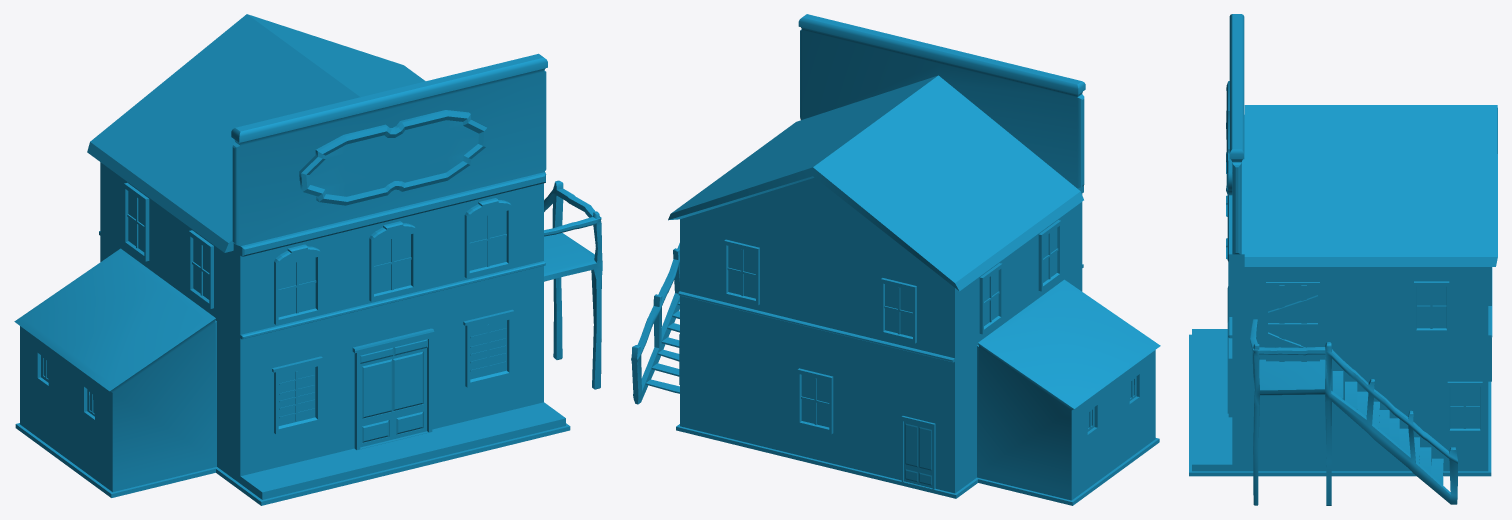
File: Funeral_Parlor_FINAL_FBX.FBX
3 views of the same model, side by side, from view 1: azimuth 30°, elevation 25°; view 2: azimuth 150°, elevation 25°; view 3: azimuth 270°, elevation 25° (orthographic). The views are drawn at different scales.
Parts seen in each view (by area): view 1: Funeral_Parlour; view 2: Funeral_Parlour; view 3: Funeral_Parlour.
Boxes of the visible parts, <box> form: Funeral_Parlour: <box>14,14,602,505</box>; Funeral_Parlour: <box>631,14,1160,505</box>; Funeral_Parlour: <box>1189,14,1497,505</box>.
Bounding box in the file's own units: 1036 × 726 × 624.
